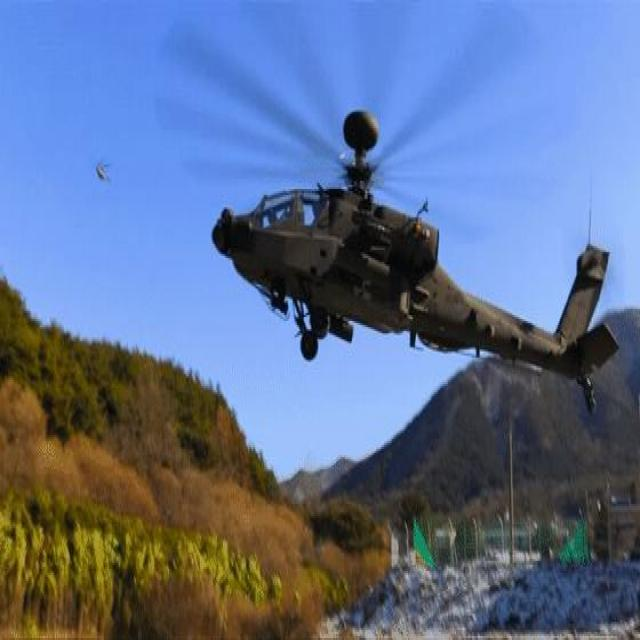MIL_HELO: (143, 0, 625, 419)
